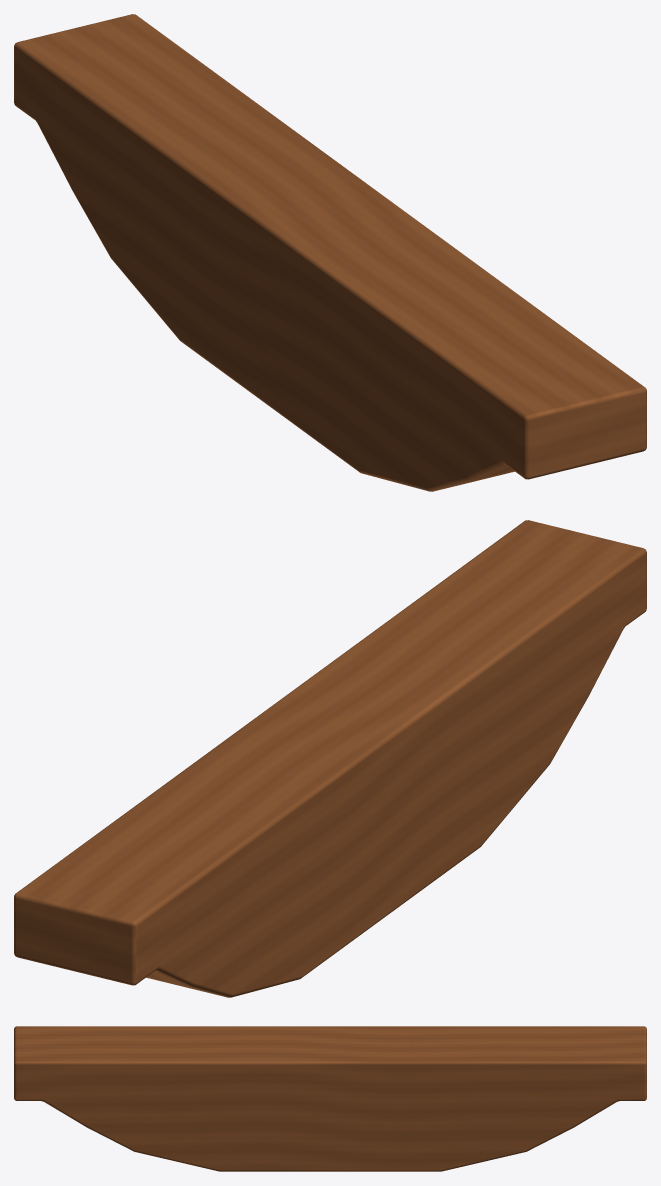
The picture shows the model from 3 angles, top to bottom: view 1: azimuth 30°, elevation 25°; view 2: azimuth 150°, elevation 25°; view 3: azimuth 270°, elevation 25°; orthographic projection. The views are drawn at different scales.
Parts seen in each view (by area): view 1: k5_gong_01; view 2: k5_gong_01; view 3: k5_gong_01.
Part boxes in pixels (x1,y1,x2,y2): k5_gong_01: [14, 14, 646, 491]; k5_gong_01: [14, 520, 646, 997]; k5_gong_01: [14, 1026, 646, 1171].
Bounding box in the file's own units: 0.4361 × 0.6059 × 3.15.
Materials: 1 (1 with a texture image).
